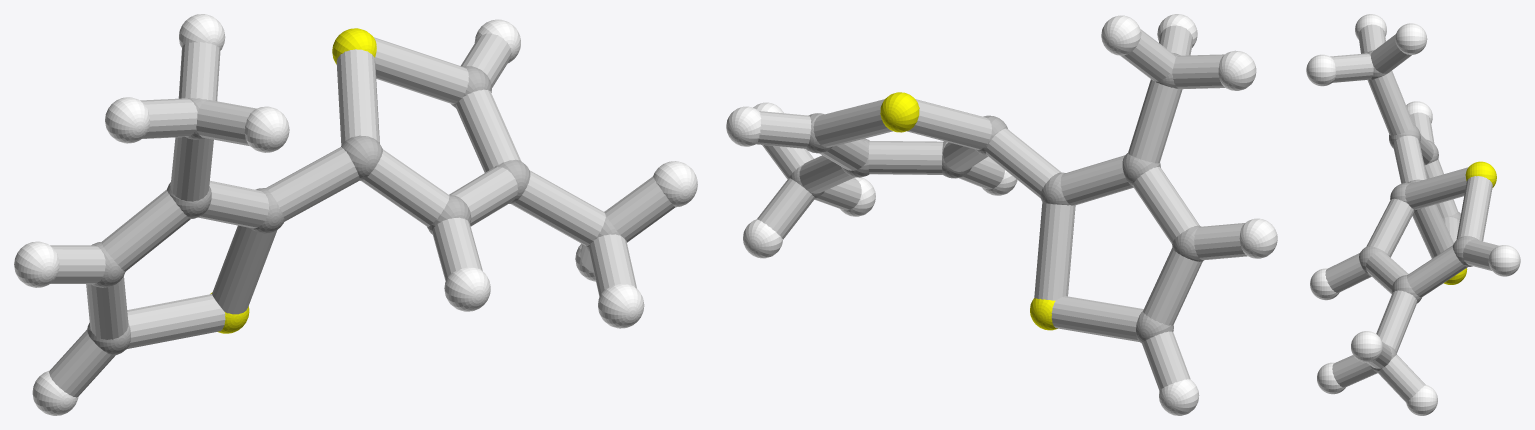
Rendered from Methylthiophene_Phi_40_Theta_290_Methylthiophene.glb.
3 renders of one model, left to right at view 1: azimuth 30°, elevation 25°; view 2: azimuth 150°, elevation 25°; view 3: azimuth 270°, elevation 25°, orthographic. The views are drawn at different scales.
Parts seen in each view (by area): view 1: grp7965, grp3621, grp1, grp7241; view 2: grp7965, grp3621, grp1, grp7241; view 3: grp7965, grp3621, grp1, grp7241.
Part boxes in pixels (x1=…): grp7965: x1=49, y1=33, x2=675, y2=397; grp3621: x1=14, y1=14, x2=697, y2=415; grp1: x1=87, y1=66, x2=619, y2=355; grp7241: x1=210, y1=28, x2=376, y2=333; grp7965: x1=756, y1=25, x2=1247, y2=390; grp3621: x1=726, y1=14, x2=1277, y2=415; grp1: x1=789, y1=53, x2=1203, y2=343; grp7241: x1=880, y1=92, x2=1057, y2=330; grp7965: x1=1325, y1=24, x2=1498, y2=402; grp3621: x1=1306, y1=14, x2=1520, y2=415; grp1: x1=1359, y1=50, x2=1478, y2=372; grp7241: x1=1444, y1=161, x2=1496, y2=284.
Bounding box in the file's own units: 9.56 × 5.71 × 4.01.
